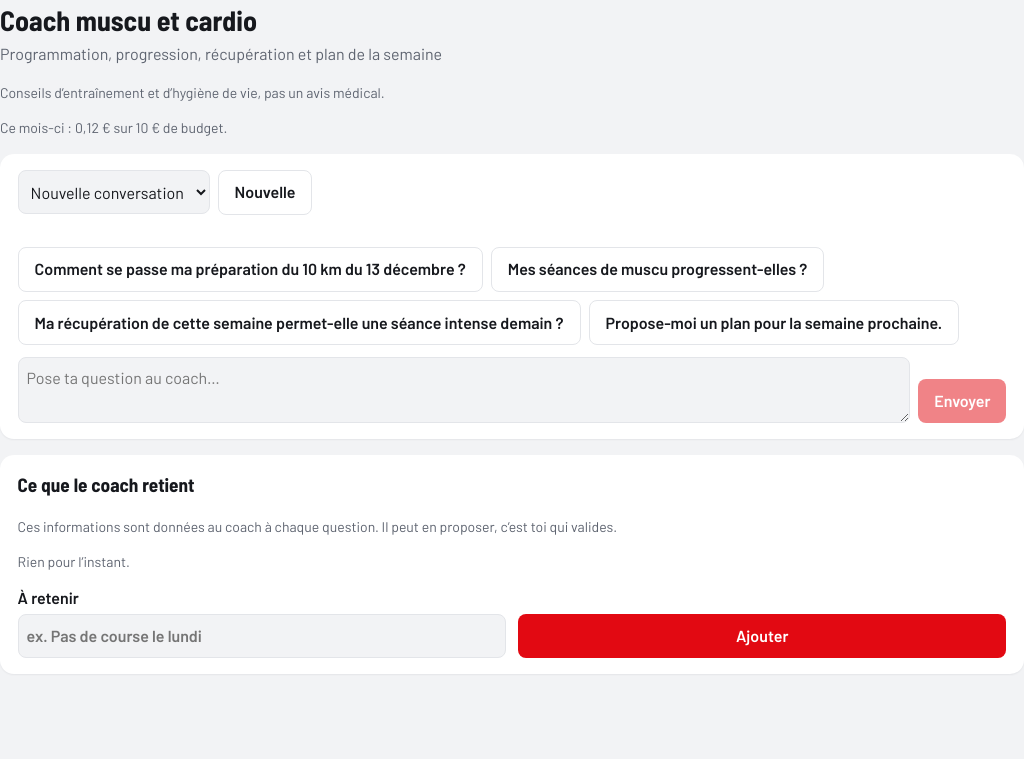
CoachPage plans › shows a proposed plan as a card that FRANKS accepts
Check: the text "Ce mois-ci : 0,12 € sur 10 € de budget." is shown, box [0,119,227,136]
In the text box labelled "ta question": (464, 390) [18,357,910,423], type "Un plan ?"
Then press Enter
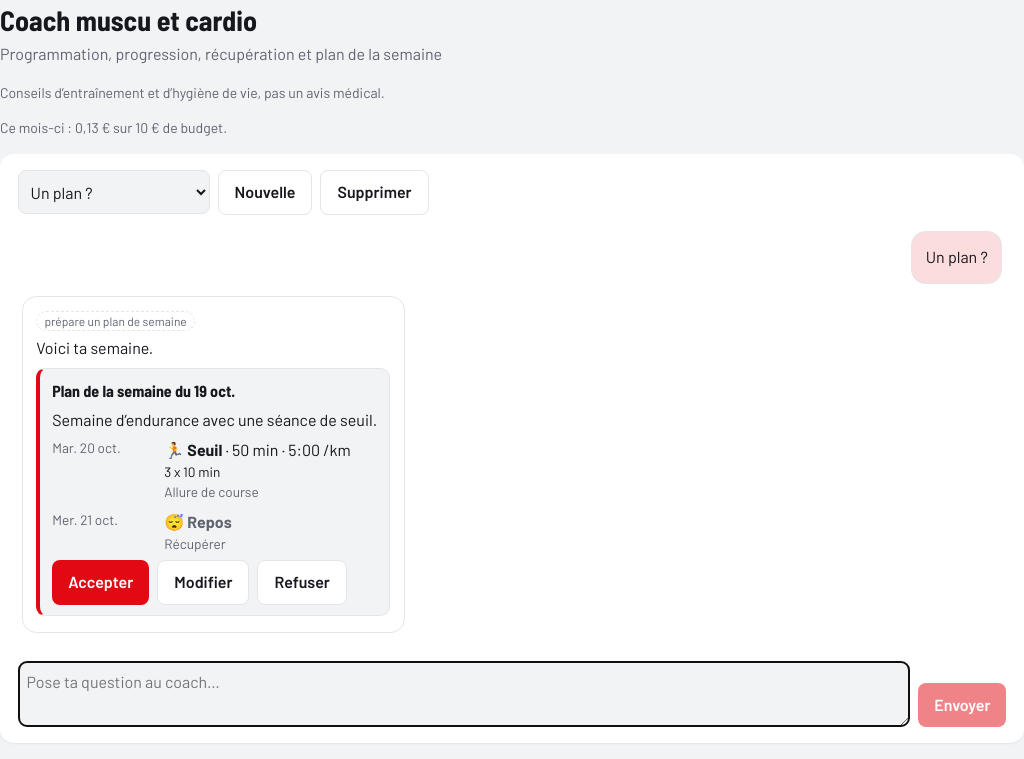
Check: the text "Seuil" is shown, box [187,440,222,459]
Check: the text "🏃 Seuil · 50 min · 5:00 /km 3 x 10 min Allure de course" is shown, box [164,438,377,503]
Check: the text "Allure de course" is shown, box [164,483,259,500]
Click the button "Accepter": (101, 582) [52,560,149,605]
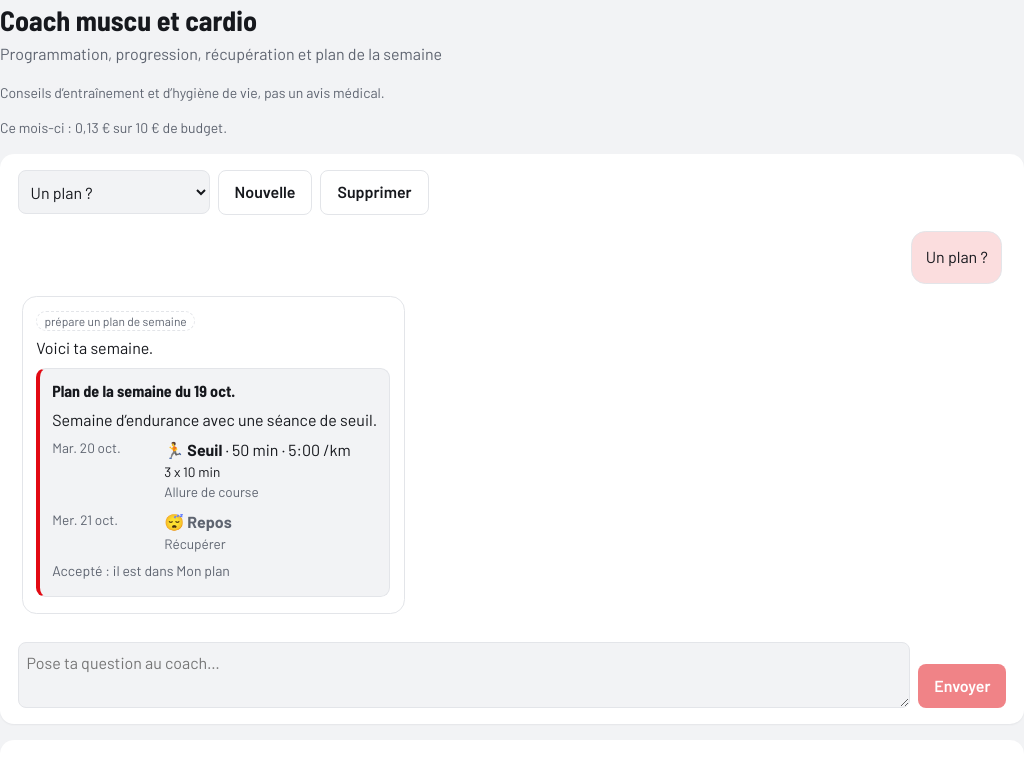
Check: the text "Accepté : il est dans Mon plan" is shown, box [52,562,230,579]
